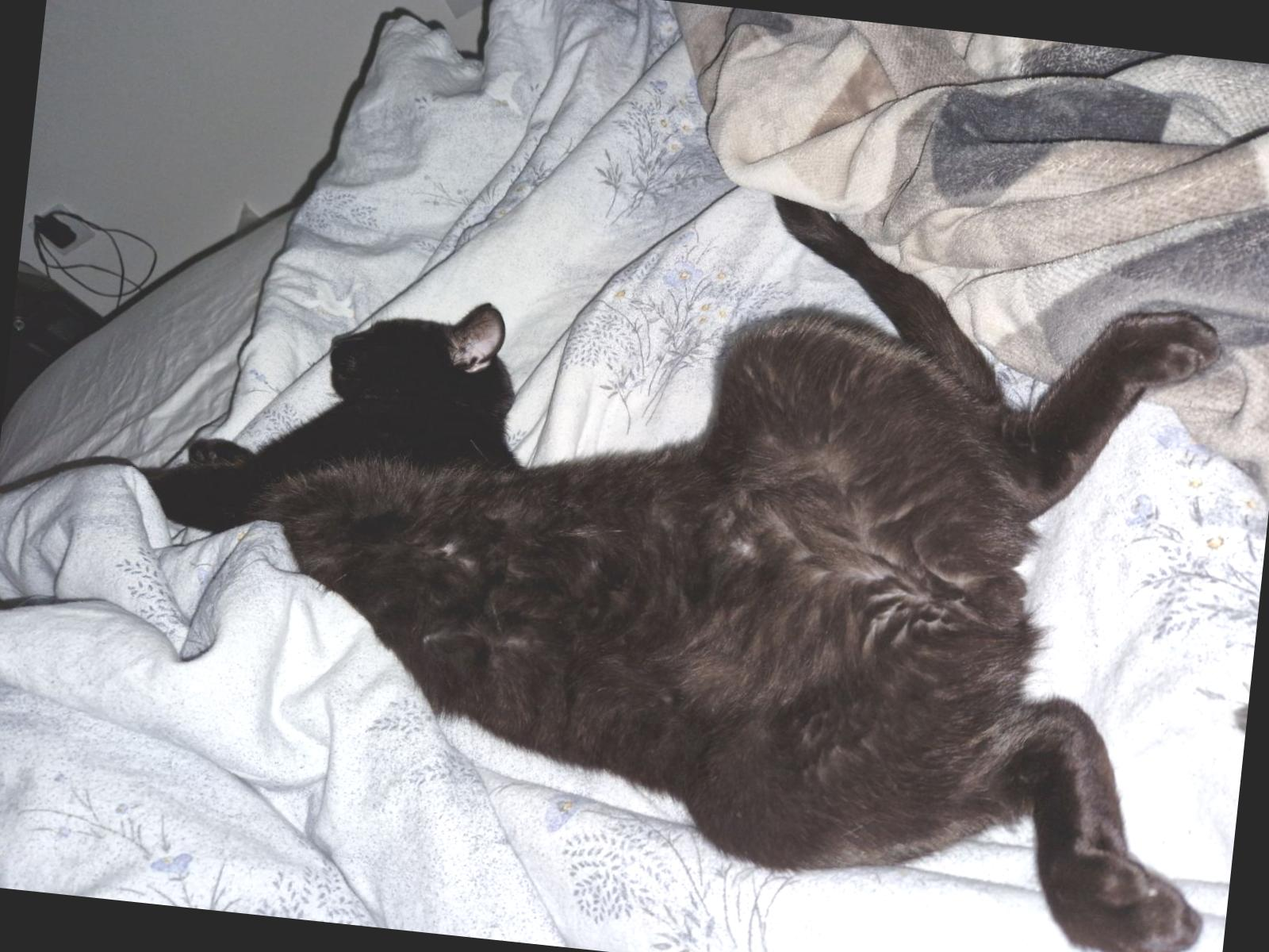macka: (18, 113, 1269, 952)
